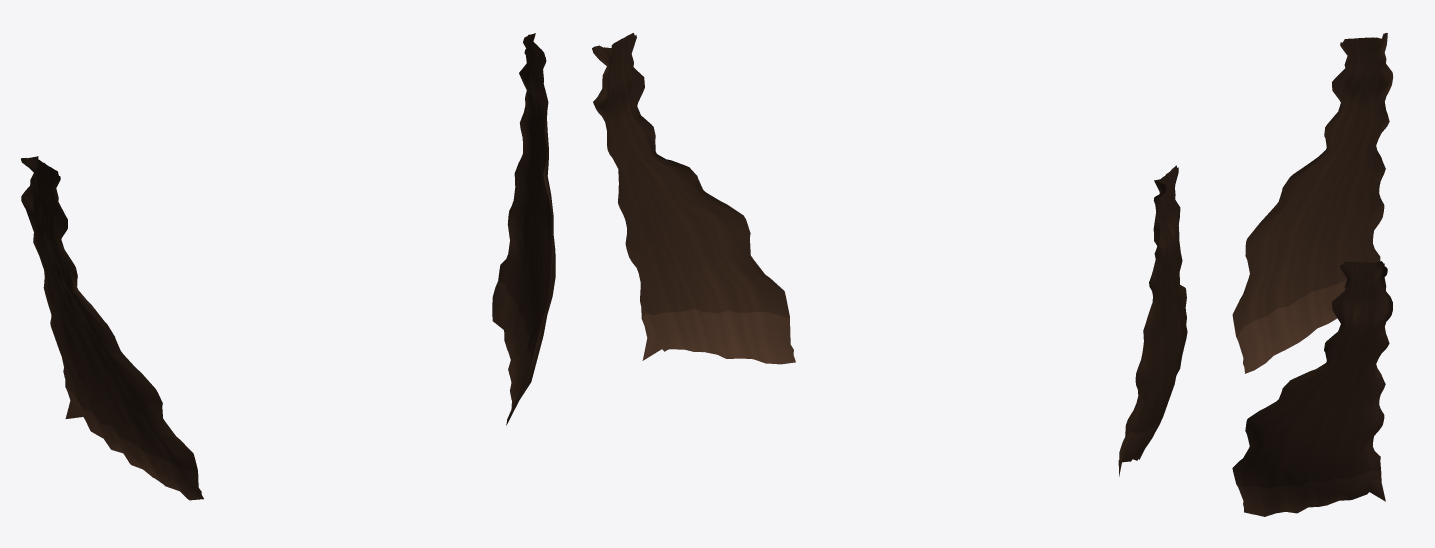
Rendered from vincentt-sideburns-lamb-chops-flared.glb.
The picture shows the model from 3 angles, left to right: view 1: azimuth 30°, elevation 25°; view 2: azimuth 150°, elevation 25°; view 3: azimuth 270°, elevation 25°; orthographic projection. The views are drawn at different scales.
Visible parts, largest first — view 1: sideburns_lamb_chops_flared_clumps; view 2: sideburns_lamb_chops_flared_clumps; view 3: sideburns_lamb_chops_flared_clumps.
Boxes of the visible parts, box(x1,y1,x2,y2) form: sideburns_lamb_chops_flared_clumps: box(21, 33, 555, 500); sideburns_lamb_chops_flared_clumps: box(592, 33, 1187, 476); sideburns_lamb_chops_flared_clumps: box(1232, 33, 1393, 516).
Size of what is drawn, in the model's own units: 0.1606 by 0.111 by 0.0582.
2 materials, 2 textured.
